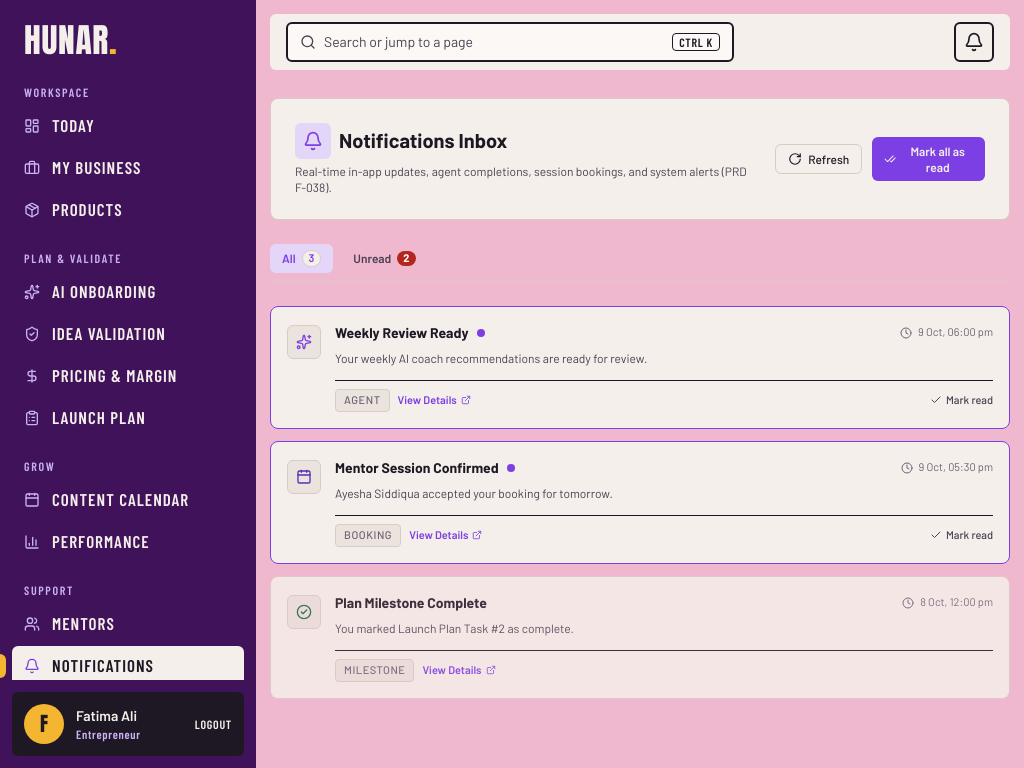
Scenario: NotificationsInboxPage (Task 55 / F-038) › marks all notifications as read upon clicking Mark all as read
Expected: the heading "Weekly Review Ready" is shown, x1=335 y1=323 x2=468 y2=343
Click the button with test id "mark-all-read-button": (929,159) x1=872 y1=137 x2=985 y2=181
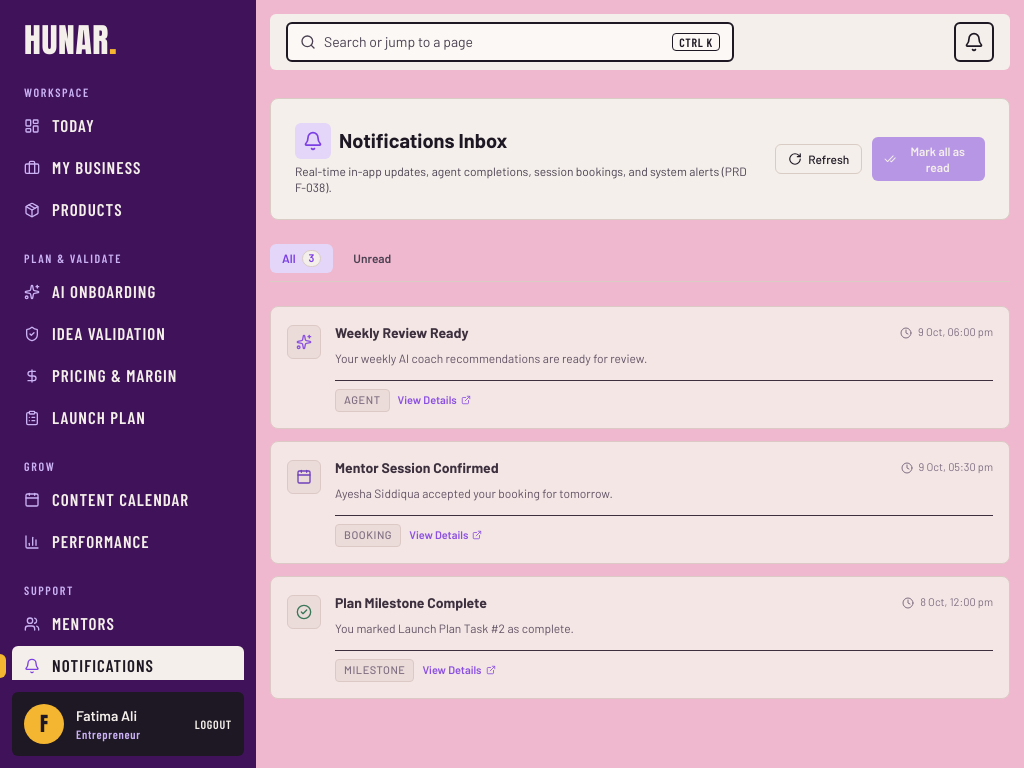
Expected: no elements with test id "unread-dot" are shown
